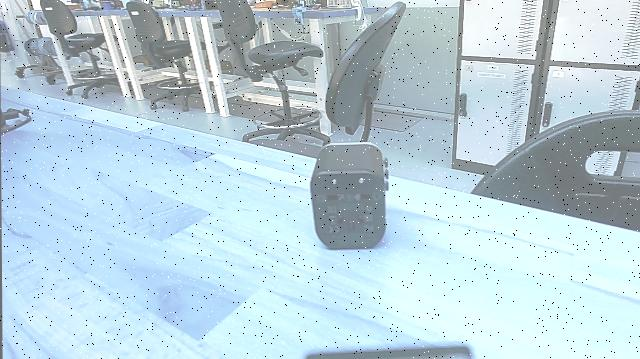adapter: (308, 136, 396, 255)
